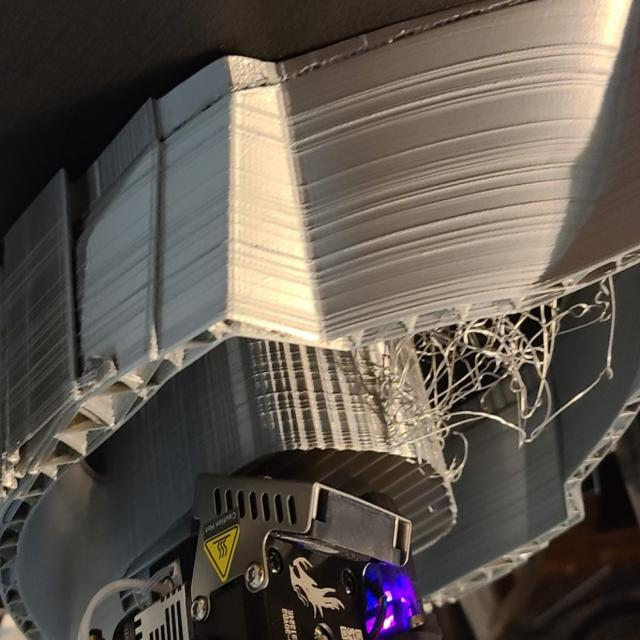spaghetti: (328, 266, 628, 464), (65, 342, 119, 412)
